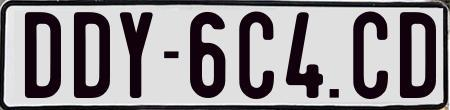4: (283, 12, 325, 101)
6: (189, 12, 226, 101)
C: (239, 8, 274, 98), (351, 8, 386, 97)
D: (73, 11, 113, 102), (25, 10, 61, 102), (400, 12, 435, 101)
Y: (120, 10, 154, 101)
